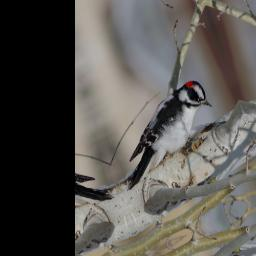Woodpecker: (103, 75, 226, 193)
